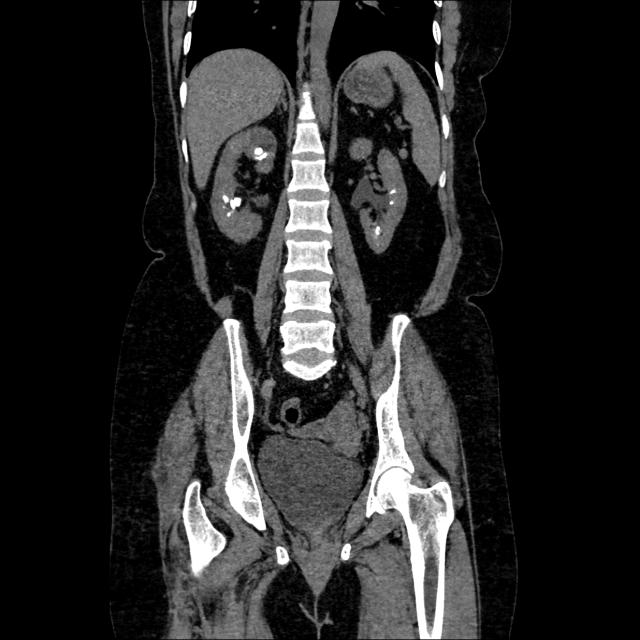kidney: (212, 120, 278, 247), (350, 136, 411, 260)
stone: (218, 186, 245, 214), (251, 136, 269, 164), (371, 215, 384, 240), (388, 182, 400, 207)
